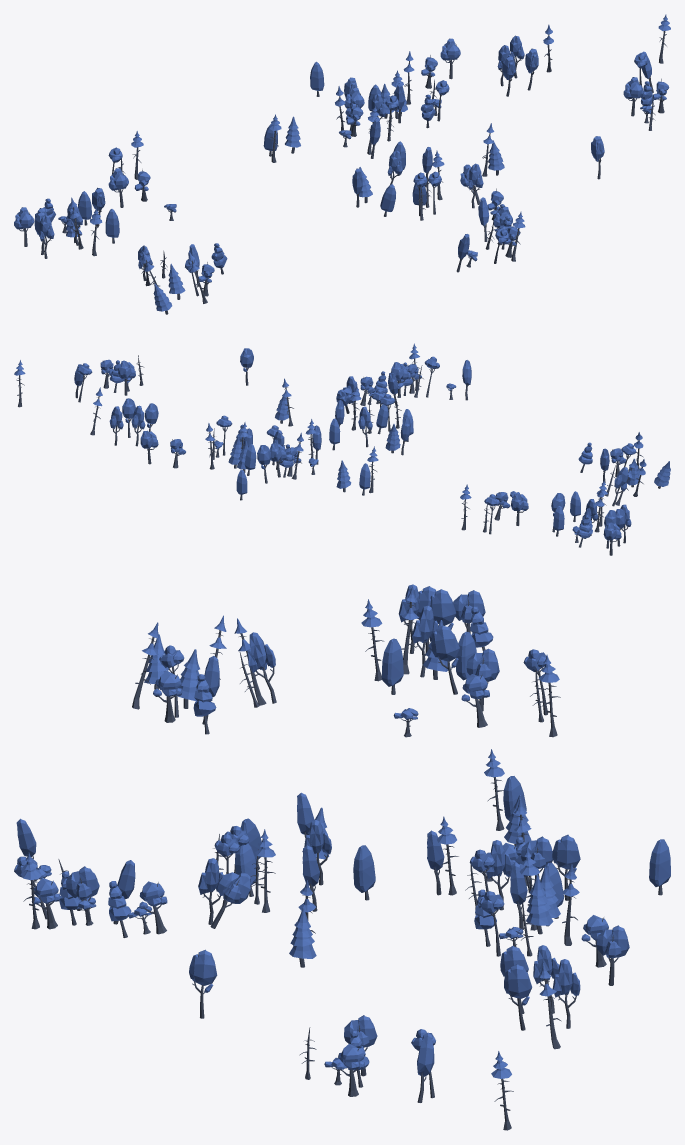
The model's file is pohon highground 1.fbx.
3 renders of one model, top to bottom at view 1: azimuth 30°, elevation 25°; view 2: azimuth 150°, elevation 25°; view 3: azimuth 270°, elevation 25°, orthographic. The views are drawn at different scales.
Parts seen in each view (by area): view 1: no part large enough to name; view 2: Tree_temp_climate_007.004; view 3: Tree_temp_climate_007.003, Tree_temp_climate_006.002, Tree_temp_climate_006.005, Tree_temp_climate_007.006, Tree_temp_climate_005.003, Tree_temp_climate_006.008, Tree_temp_climate_005.007, Tree_temp_climate_007.007, Tree_temp_climate_014.004, Tree_temp_climate_014.007, Tree_temp_climate_018.007, Tree_temp_climate_014.006 (+6 smaller).
Part boxes in pixels (x1,y1,x2,y2): Tree_temp_climate_007.004: (118, 360, 135, 395); Tree_temp_climate_007.003: (210, 872, 250, 928); Tree_temp_climate_006.002: (431, 625, 459, 694); Tree_temp_climate_006.005: (189, 949, 217, 1018); Tree_temp_climate_007.006: (596, 925, 629, 985); Tree_temp_climate_005.003: (247, 632, 276, 703); Tree_temp_climate_006.008: (504, 963, 532, 1030); Tree_temp_climate_005.007: (552, 959, 580, 1028); Tree_temp_climate_007.007: (66, 866, 99, 921); Tree_temp_climate_014.004: (381, 638, 403, 694); Tree_temp_climate_014.007: (649, 839, 670, 895); Tree_temp_climate_018.007: (526, 875, 553, 934); Tree_temp_climate_014.006: (353, 845, 375, 900).
Size of the model in its own units: 18796 by 2125 by 10065.
